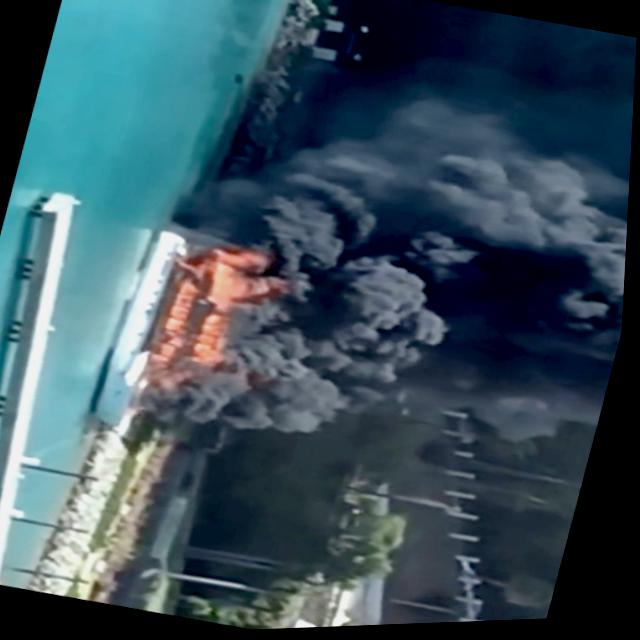fire: (139, 221, 306, 382)
smoke: (230, 86, 636, 443)
